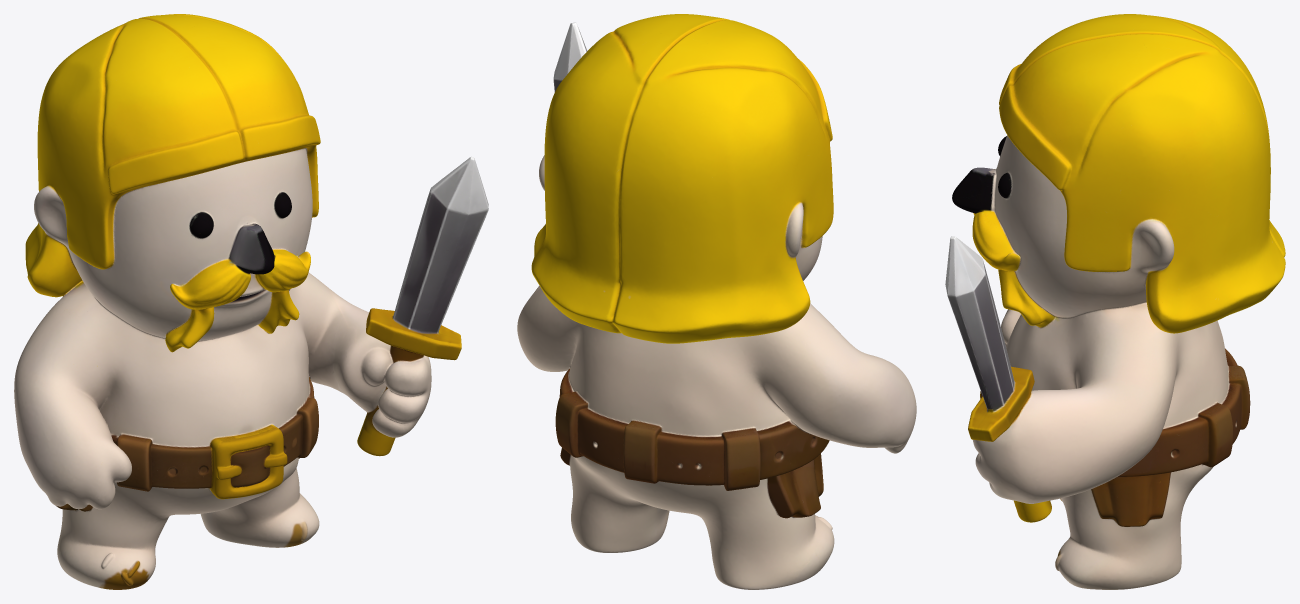
File: Barbaro.glb
3 renders of one model, left to right at view 1: azimuth 30°, elevation 25°; view 2: azimuth 150°, elevation 25°; view 3: azimuth 270°, elevation 25°, orthographic. The views are drawn at different scales.
Bounding box in the file's own units: 1.56 × 1.9 × 1.16.
1 material, 1 textured.
